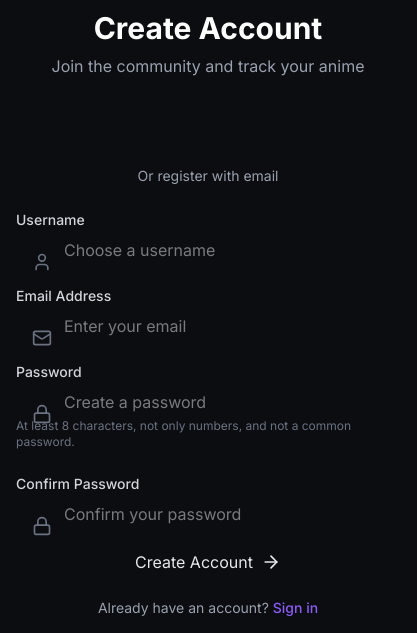
Test: Register › shows server field errors next to their fields
Type "newbie" into the field with placeholder "Choose a username" at (208, 250), box [16, 238, 400, 262]
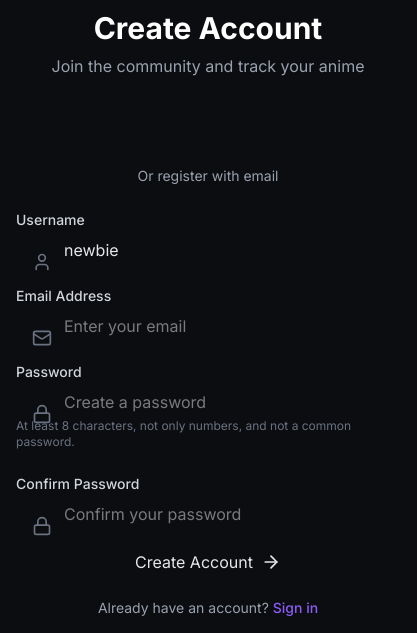
Type "n@example.com" into the field with placeholder "Enter your email" at (208, 326), box [16, 314, 400, 338]
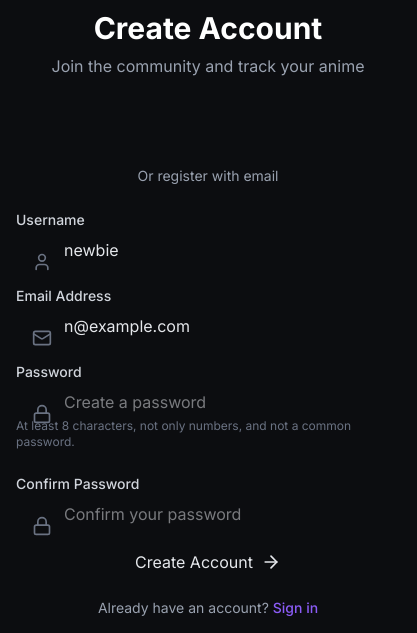
Type "password123" into the password field with placeholder "Create a password" at (208, 402), box [16, 390, 400, 414]
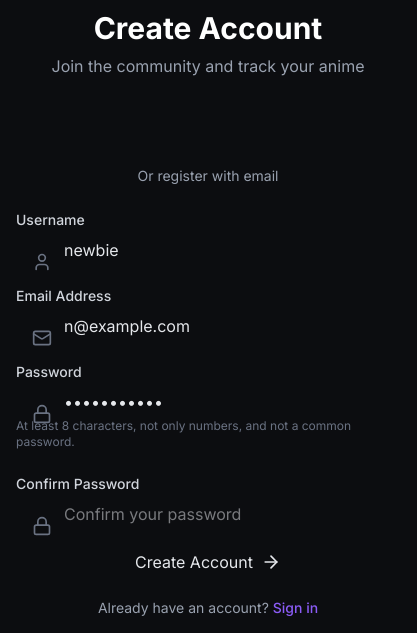
Type "password123" into the password field with placeholder "Confirm your password" at (208, 514), box [16, 502, 400, 526]
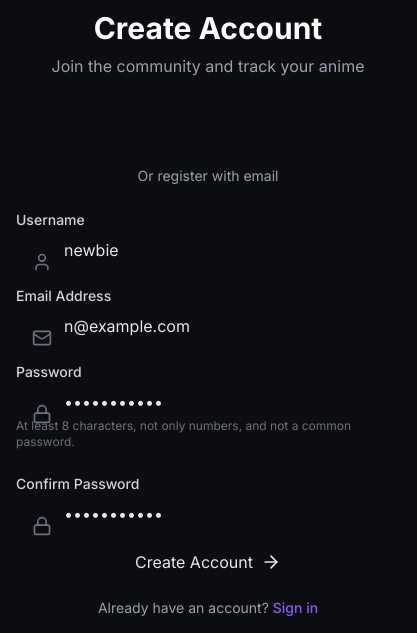
Submit the form, box [16, 210, 400, 574]
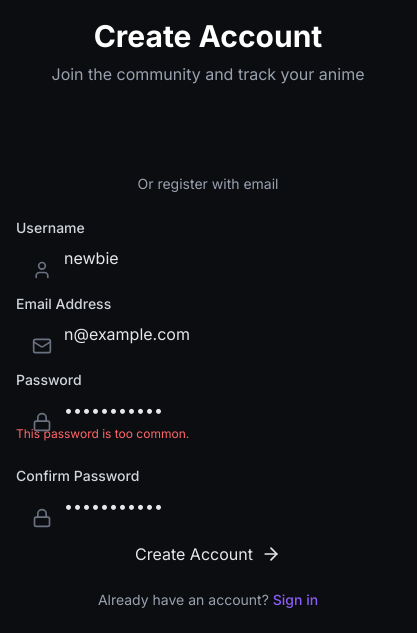
expect the text "This password is too common." is shown: met, box [16, 426, 189, 441]
